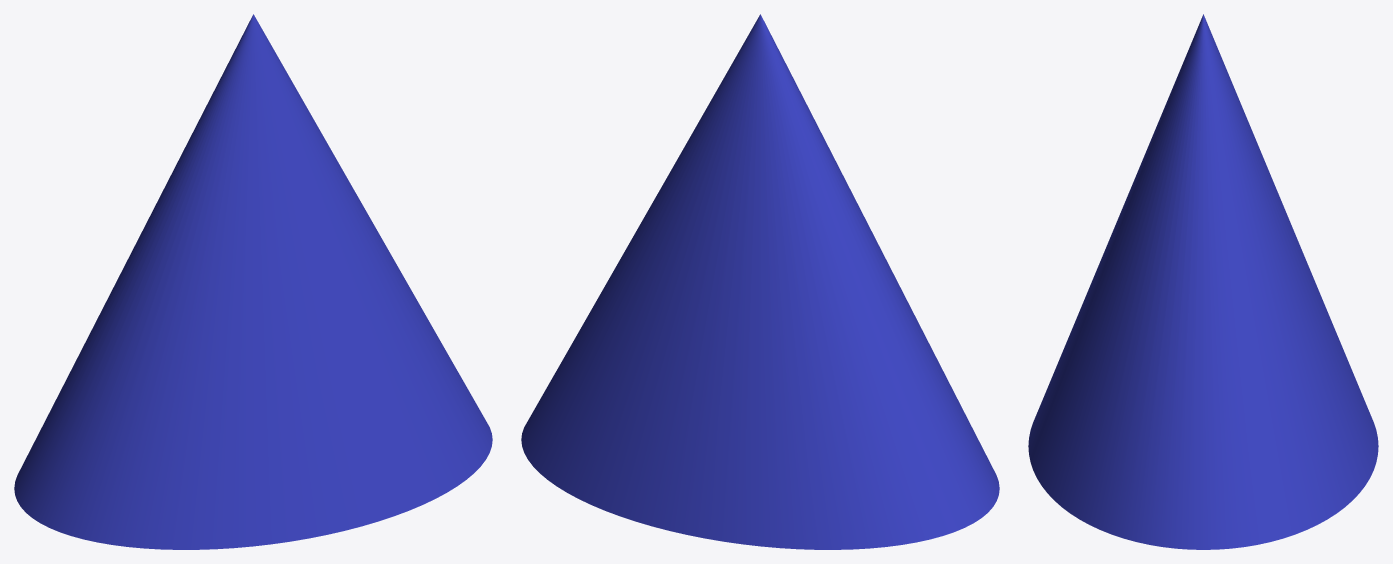
3 renders of one model, left to right at view 1: azimuth 30°, elevation 25°; view 2: azimuth 150°, elevation 25°; view 3: azimuth 270°, elevation 25°, orthographic. The views are drawn at different scales.
Parts seen in each view (by area): view 1: root; view 2: root; view 3: root.
Boxes of the visible parts, x1,y1,x2,y2 form: root: (14,14,492,549); root: (521,14,999,549); root: (1028,14,1378,549).
Bounding box in the file's own units: 0.1592 × 0.1548 × 0.1136.
